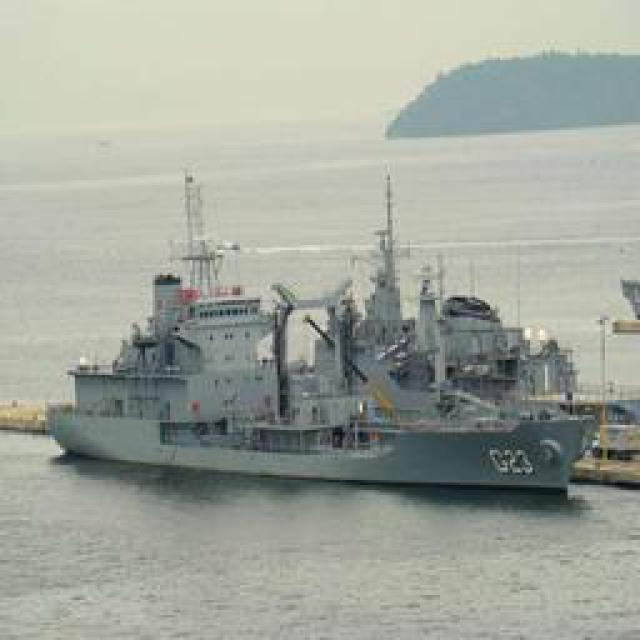Ship: (54, 152, 594, 490)
